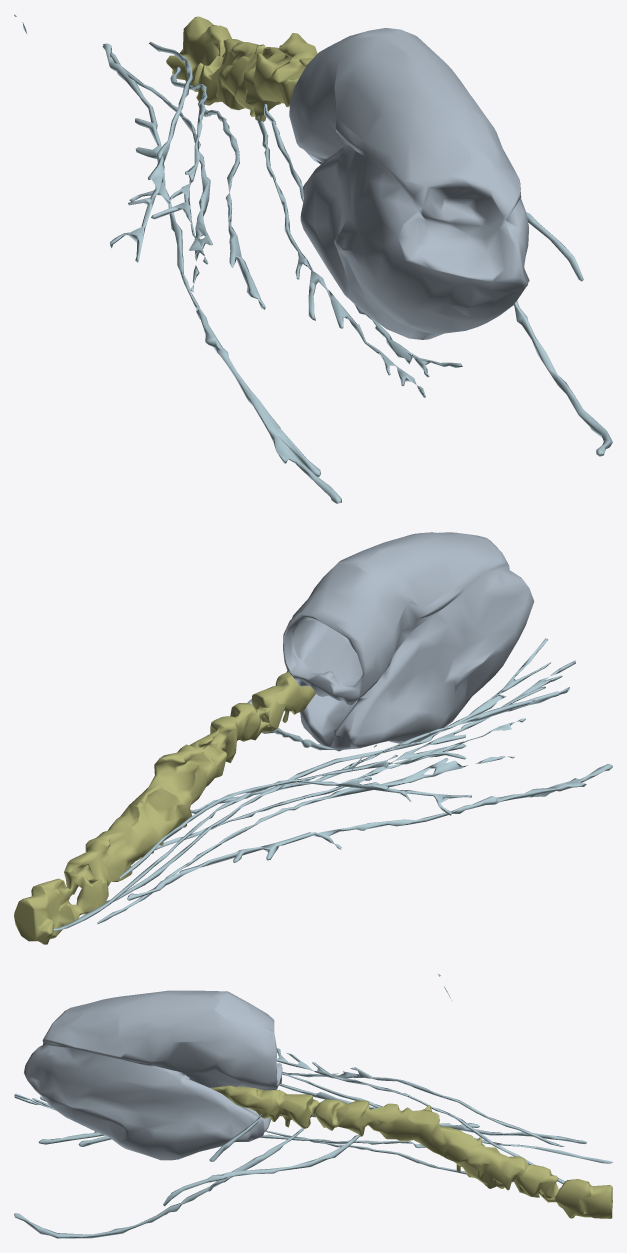
The model's file is siphonophore.glb.
3 renders of one model, top to bottom at view 1: azimuth 30°, elevation 25°; view 2: azimuth 150°, elevation 25°; view 3: azimuth 270°, elevation 25°, orthographic. The views are drawn at different scales.
Visible parts, largest first — view 1: baked; view 2: baked; view 3: baked.
Boxes of the visible parts, x1=… form: baked: x1=14, y1=14, x2=612, y2=503; baked: x1=14, y1=532, x2=612, y2=944; baked: x1=14, y1=973, x2=612, y2=1238.
Bounding box in the file's own units: 0.4318 × 0.3962 × 1.
